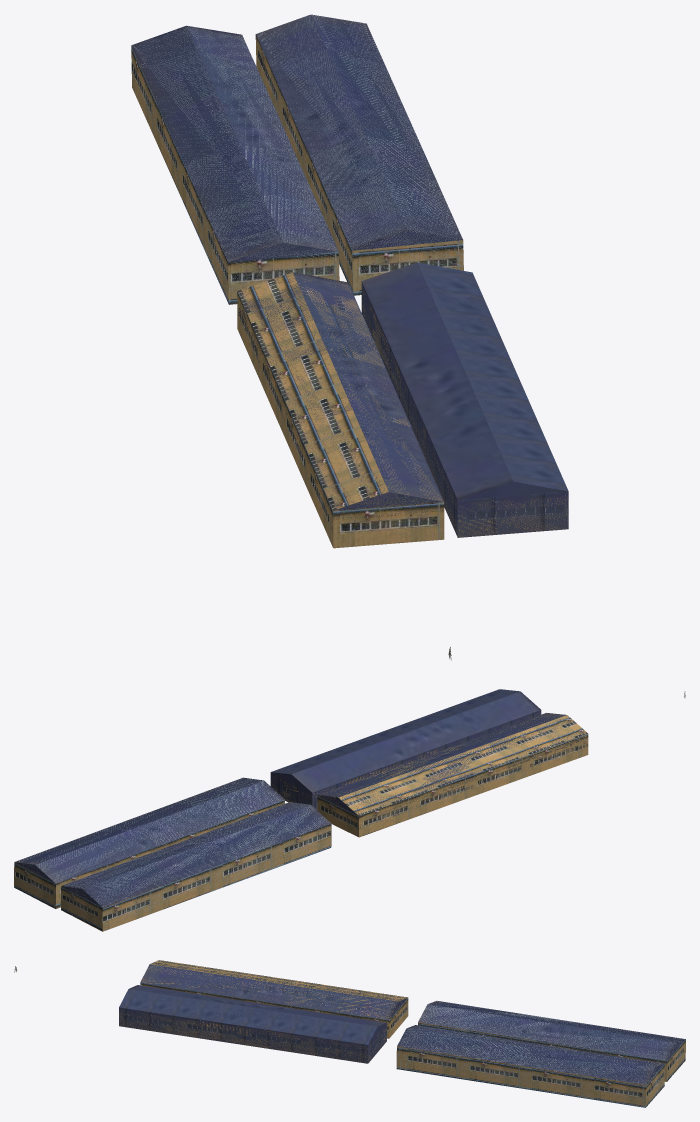
File: Lab Mech, Wilis, OiO.fbx
3 views of the same model, one above another, from view 1: azimuth 30°, elevation 25°; view 2: azimuth 150°, elevation 25°; view 3: azimuth 270°, elevation 25° (orthographic). The views are drawn at different scales.
Parts seen in each view (by area): view 1: WiLiS__OiO__Mech_labs1; view 2: WiLiS__OiO__Mech_labs1; view 3: WiLiS__OiO__Mech_labs1.
Part boxes in pixels (left/top/right/bottom): WiLiS__OiO__Mech_labs1: left=131, top=14, right=568, bottom=548; WiLiS__OiO__Mech_labs1: left=14, top=689, right=588, bottom=931; WiLiS__OiO__Mech_labs1: left=119, top=960, right=685, bottom=1107.
Size of the model in its own units: 2868 by 317 by 6095.
